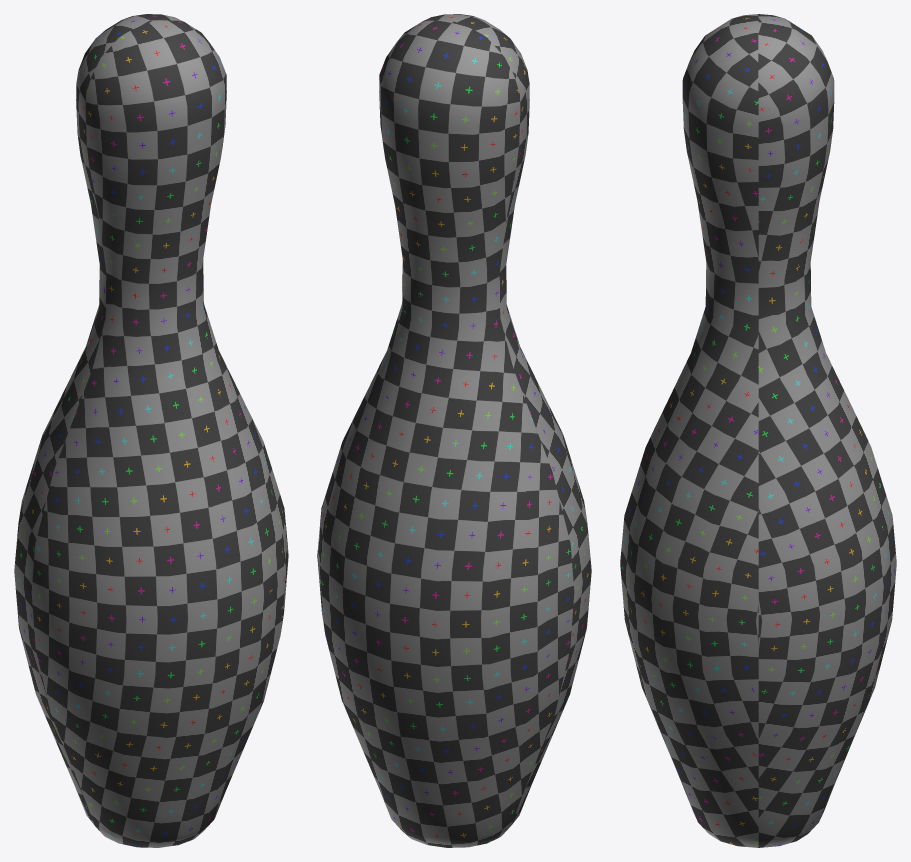
Rendered from pin.glb.
3 views of the same model, side by side, from view 1: azimuth 30°, elevation 25°; view 2: azimuth 150°, elevation 25°; view 3: azimuth 270°, elevation 25° (orthographic).
Visible parts, largest first — view 1: Plane; view 2: Plane; view 3: Plane.
Boxes of the visible parts, bbox=[...] form: Plane: bbox=[14, 14, 288, 847]; Plane: bbox=[317, 14, 591, 847]; Plane: bbox=[620, 14, 896, 847].
Bounding box in the file's own units: 1.48 × 4.73 × 1.48.
Materials: 1 (1 with a texture image).
